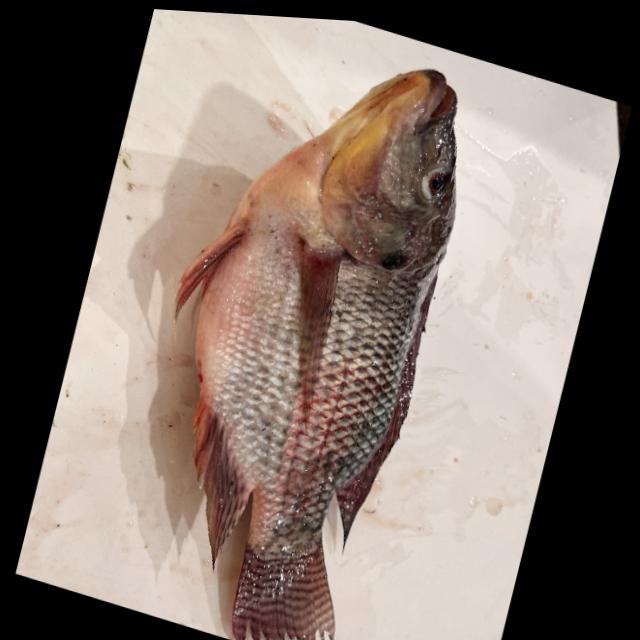Tilapia: (91, 5, 493, 640)
